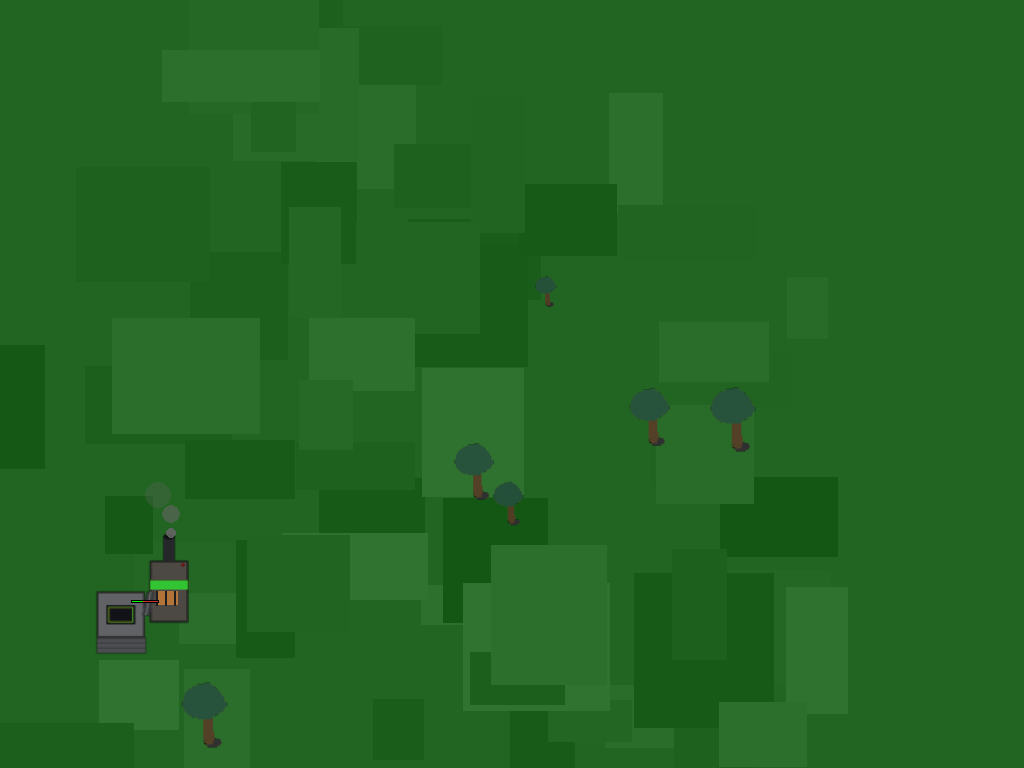MiningRig: (91, 545, 198, 652)
